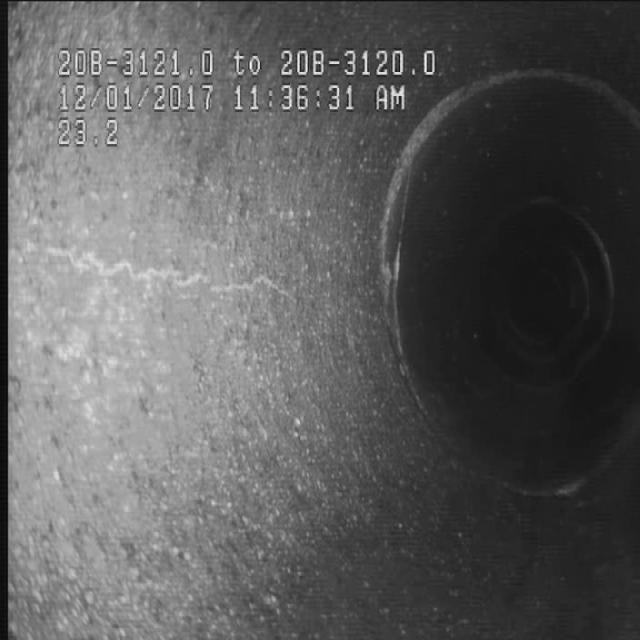Crack: (74, 216, 324, 328)
